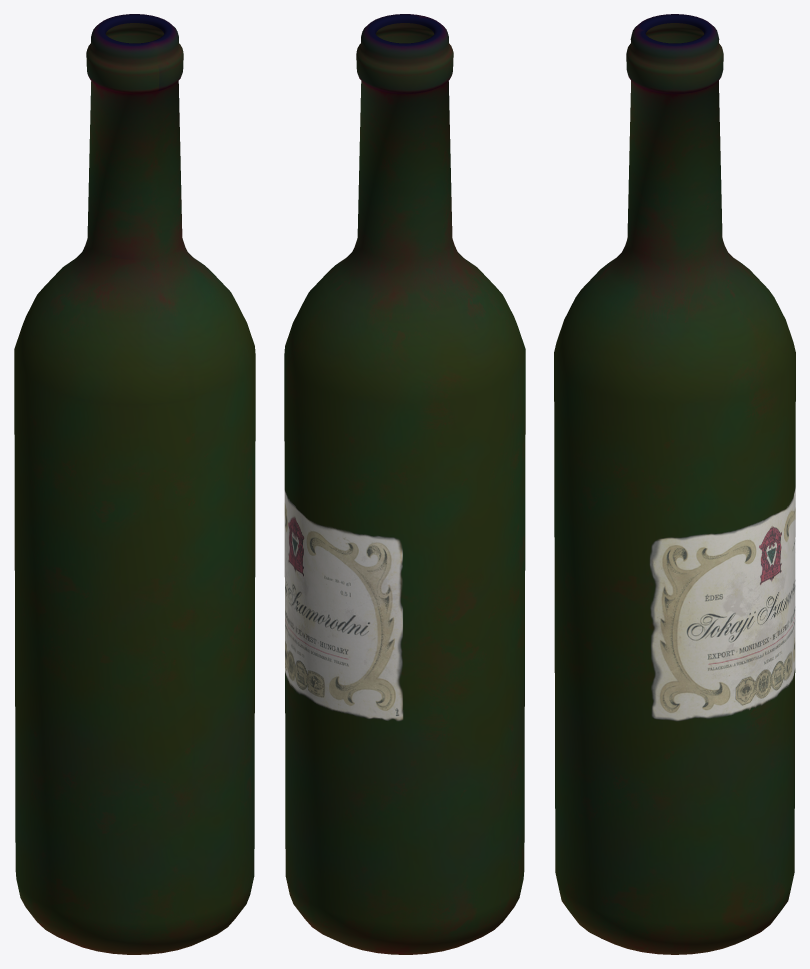
The model's file is open_bottle.glb.
The picture shows the model from 3 angles, left to right: view 1: azimuth 30°, elevation 25°; view 2: azimuth 150°, elevation 25°; view 3: azimuth 270°, elevation 25°; orthographic projection.
Visible parts, largest first — view 1: bottle_low; view 2: bottle_low; view 3: bottle_low.
Part boxes in pixels (<box>): bottle_low: <box>14,14,255,954</box>; bottle_low: <box>284,14,525,954</box>; bottle_low: <box>554,14,795,954</box>.
Bounding box in the file's own units: 0.3017 × 1.23 × 0.3017.
1 material, 1 textured.
